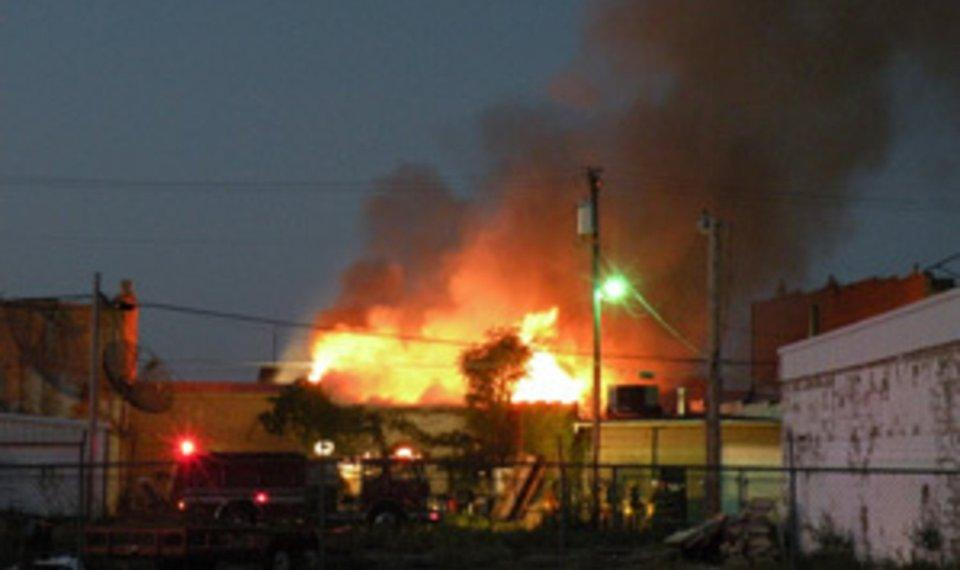Fire: (263, 272, 653, 433)
